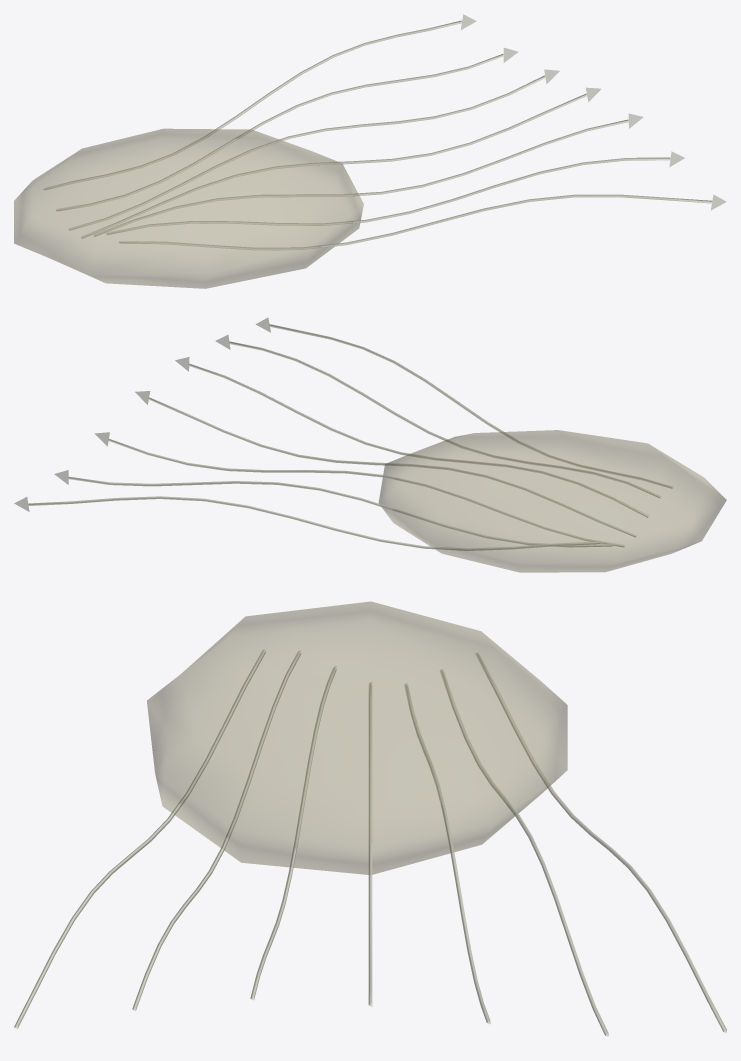
Rendered from lake-plume-shallows-1.glb.
3 renders of one model, top to bottom at view 1: azimuth 30°, elevation 25°; view 2: azimuth 150°, elevation 25°; view 3: azimuth 270°, elevation 25°, orthographic. The views are drawn at different scales.
Visible parts, largest first — view 1: lake-plume-shallows-1; view 2: lake-plume-shallows-1; view 3: lake-plume-shallows-1.
Part boxes in pixels (bbox=[...]): lake-plume-shallows-1: bbox=[14, 14, 726, 288]; lake-plume-shallows-1: bbox=[14, 318, 726, 572]; lake-plume-shallows-1: bbox=[14, 601, 726, 1036].
Bounding box in the file's own units: 4.65 × 0.6506 × 3.45.
